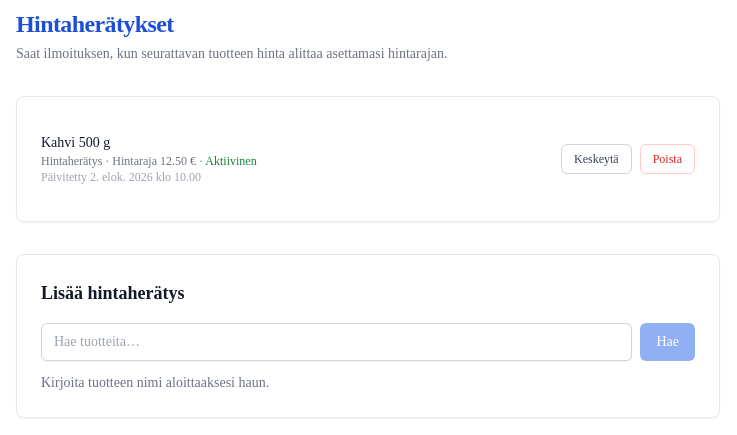
Test case: AlertsPage › deletes an alert via the raw client (empty 200 body) and removes the row
The width and height of the screenshot is (737, 435).
Click the button "Poista" at (667, 159), box [640, 144, 695, 174]
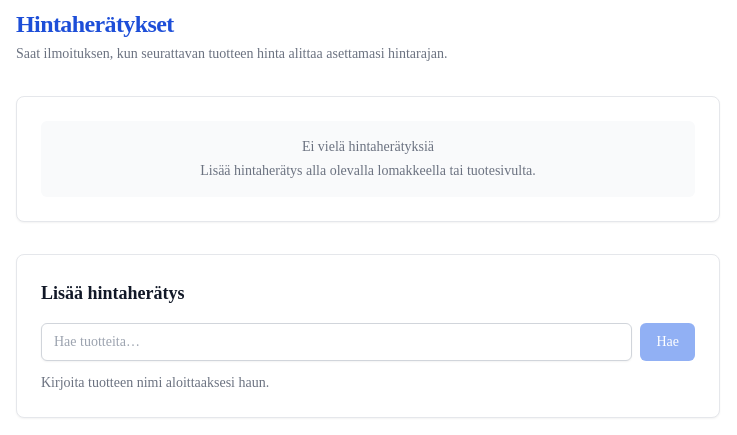
Expected: the list item with test id "price-alert-row" is gone
